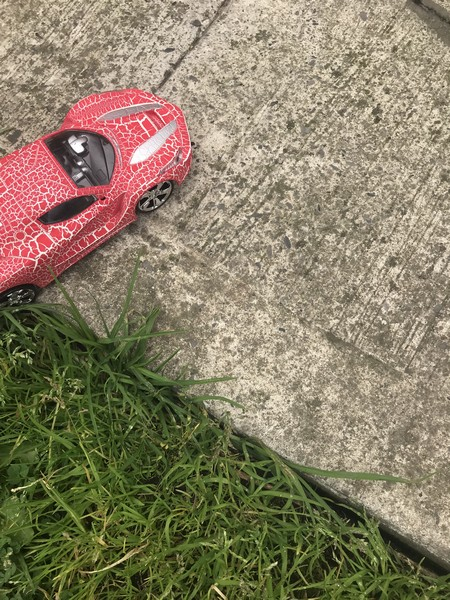RC: (1, 84, 195, 315)
